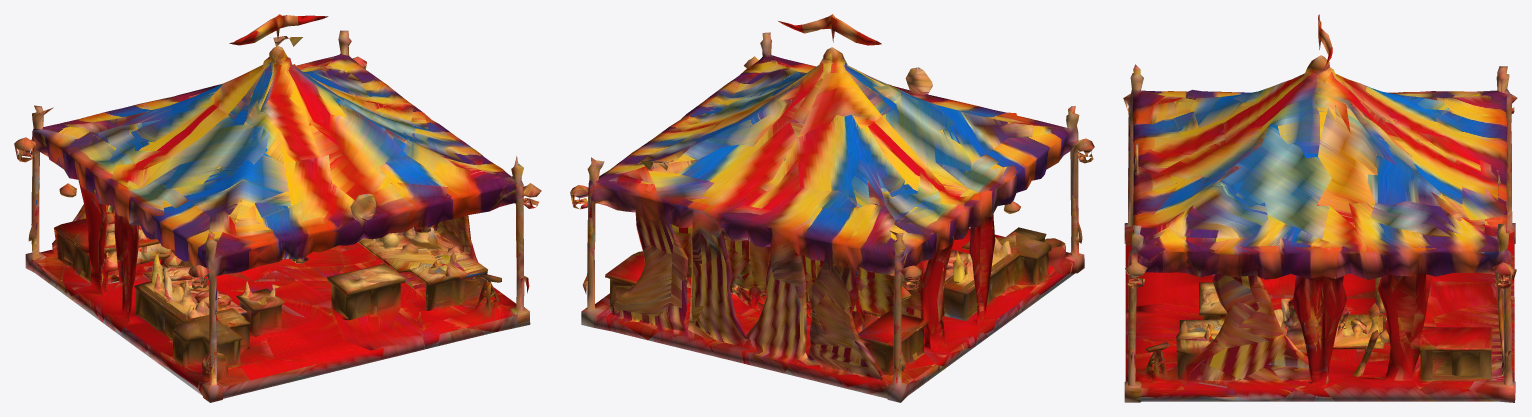
File: blacksmith.glb
3 renders of one model, left to right at view 1: azimuth 30°, elevation 25°; view 2: azimuth 150°, elevation 25°; view 3: azimuth 270°, elevation 25°, orthographic. The views are drawn at different scales.
Bounding box in the file's own units: 1.91 × 1.47 × 1.76.
1 material, 1 textured.
